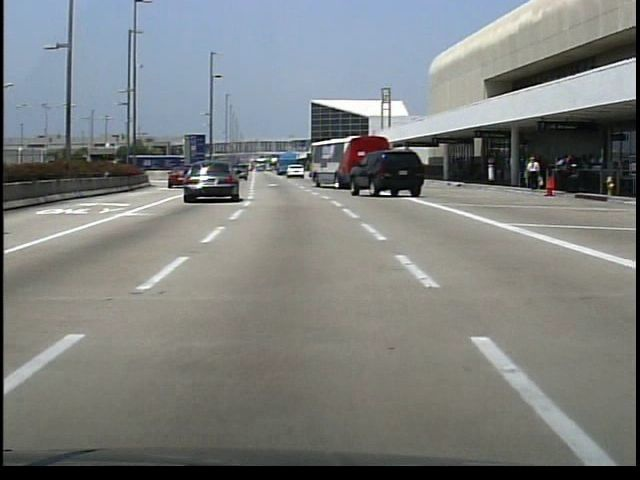person: (525, 156, 542, 194)
